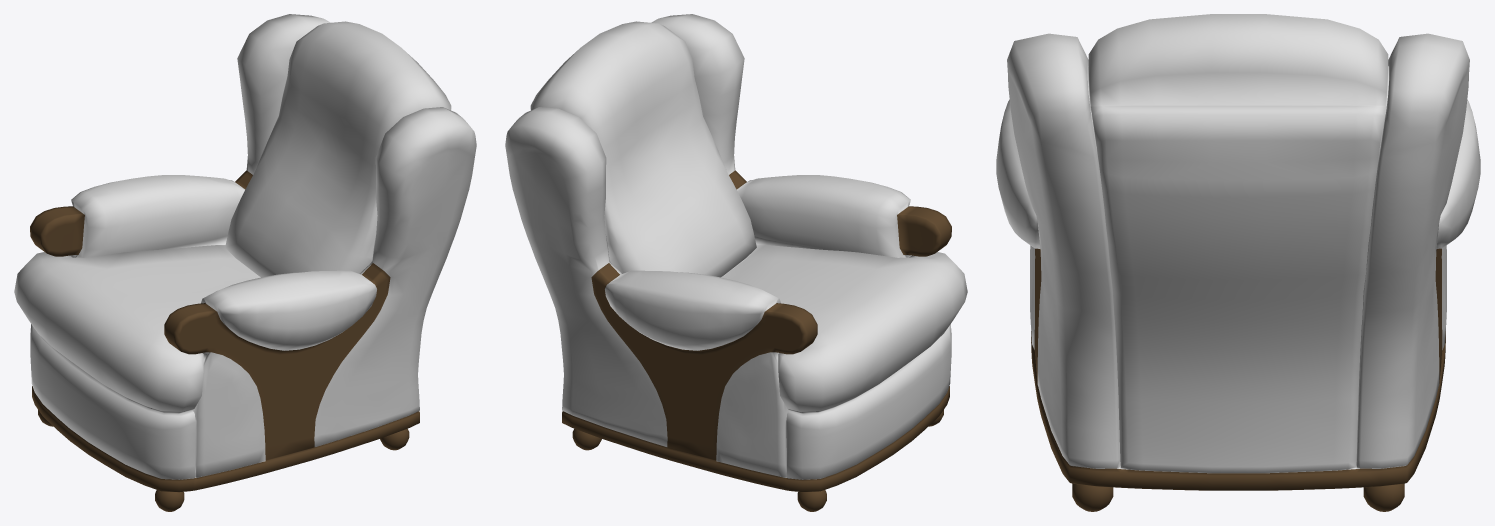
File: WhiteCSofa.glb
The picture shows the model from 3 angles, left to right: view 1: azimuth 30°, elevation 25°; view 2: azimuth 150°, elevation 25°; view 3: azimuth 270°, elevation 25°; orthographic projection. The views are drawn at different scales.
Parts seen in each view (by area): view 1: armchair_classic_ch_models_armchair_classic_ch_models_01; view 2: armchair_classic_ch_models_armchair_classic_ch_models_01; view 3: armchair_classic_ch_models_armchair_classic_ch_models_01.
Part boxes in pixels (box(x1,y1,x2,y2)): armchair_classic_ch_models_armchair_classic_ch_models_01: box(14, 14, 476, 511); armchair_classic_ch_models_armchair_classic_ch_models_01: box(505, 14, 967, 511); armchair_classic_ch_models_armchair_classic_ch_models_01: box(996, 14, 1480, 511).
Size of the model in its own units: 0.9352 by 0.941 by 0.8082.
